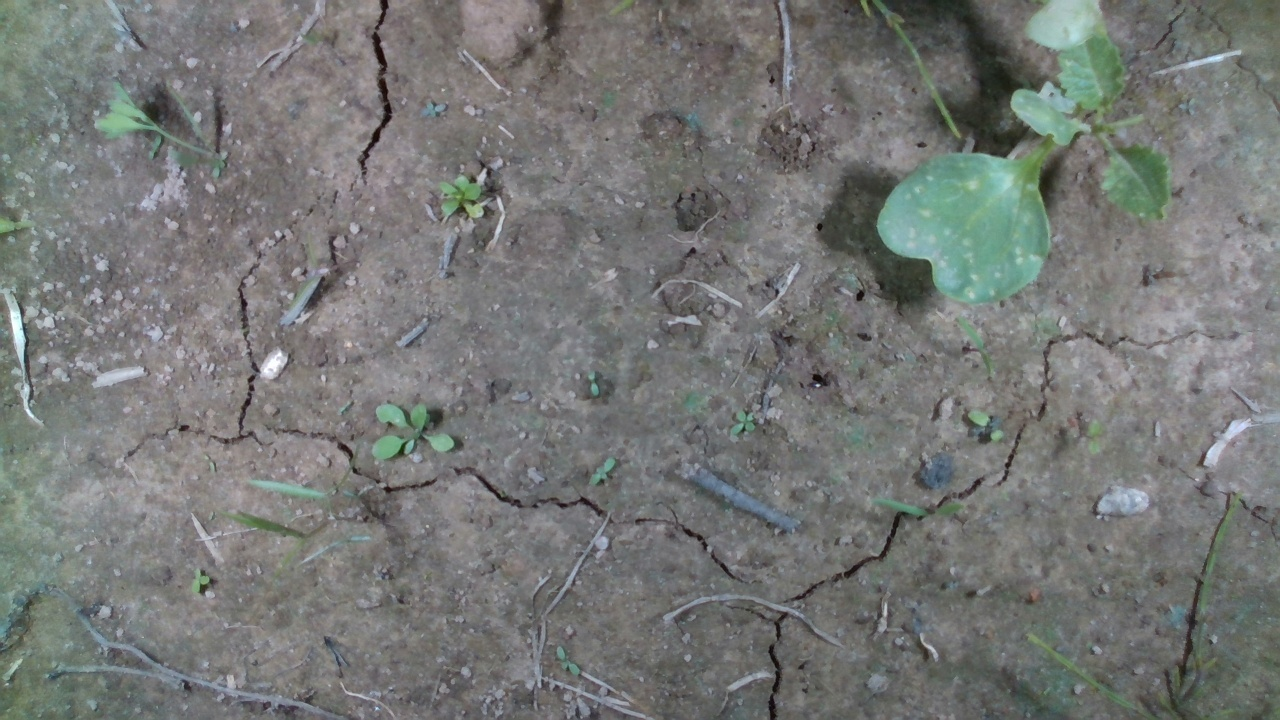weed: (581, 455, 619, 488)
